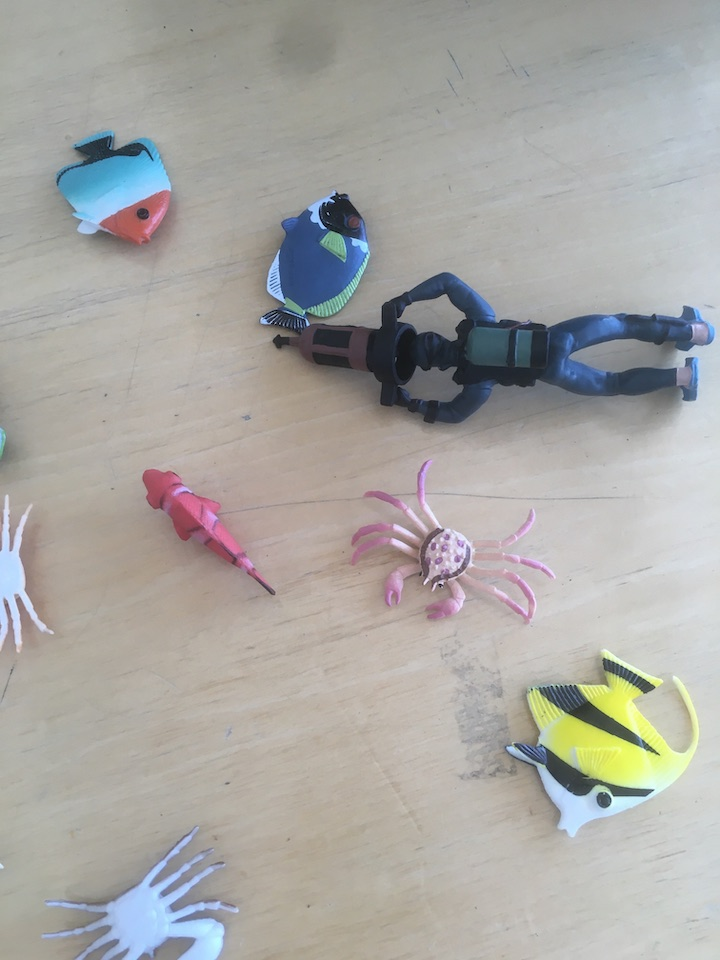crab: (341, 456, 558, 630), (35, 819, 247, 960), (1, 483, 59, 664)
danger: (500, 645, 703, 842)
diver: (268, 267, 720, 429)
fish: (135, 462, 285, 601), (255, 183, 375, 333), (52, 126, 177, 250)
